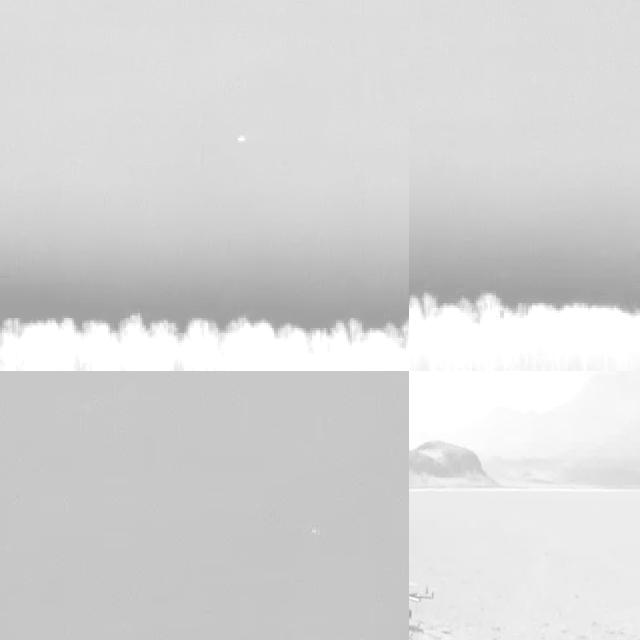0: (302, 522, 322, 546)
1: (219, 123, 255, 163)
drone: (409, 573, 434, 630)
